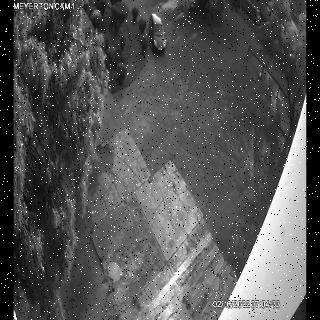car: (148, 12, 165, 53)
